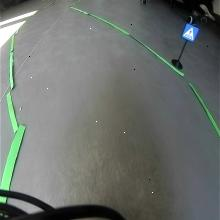crosswalk: (181, 23, 199, 43)
